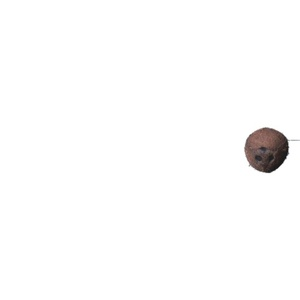coco: (245, 128, 288, 173)
